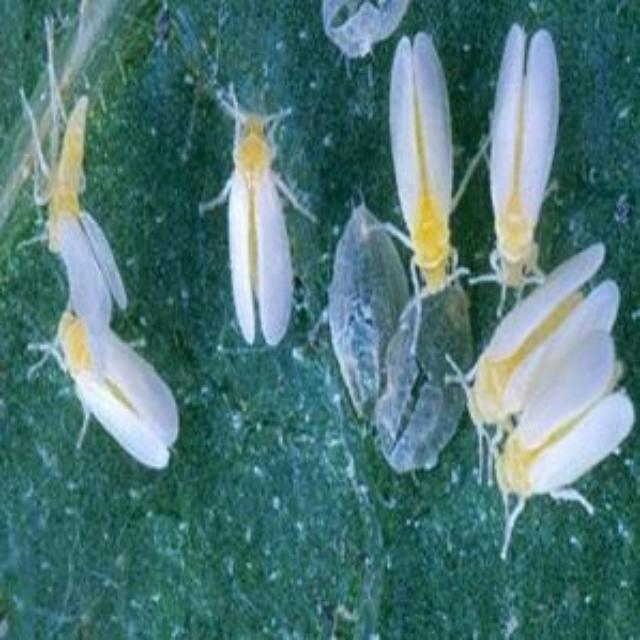Silverleaf whitefly: (440, 259, 640, 556), (188, 55, 334, 359), (0, 68, 156, 322), (361, 17, 483, 320), (472, 26, 602, 304), (29, 316, 205, 504)
